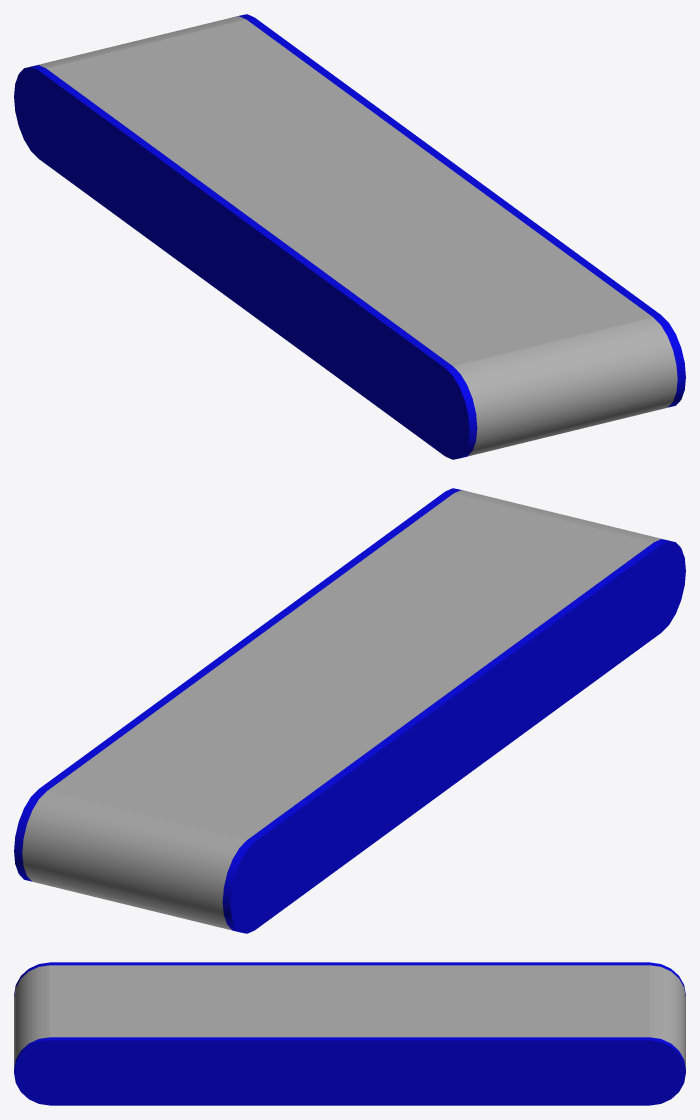
File: ConveyorBeltCubeNew.fbx
3 renders of one model, top to bottom at view 1: azimuth 30°, elevation 25°; view 2: azimuth 150°, elevation 25°; view 3: azimuth 270°, elevation 25°, orthographic. The views are drawn at different scales.
Parts seen in each view (by area): view 1: pCylinder3; view 2: pCylinder3; view 3: pCylinder3.
Part boxes in pixels (left/top/right/bottom): pCylinder3: left=14, top=14, right=685, bottom=459; pCylinder3: left=14, top=488, right=685, bottom=933; pCylinder3: left=14, top=962, right=685, bottom=1105.
Bounding box in the file's own units: 5.13 × 2 × 18.69.
